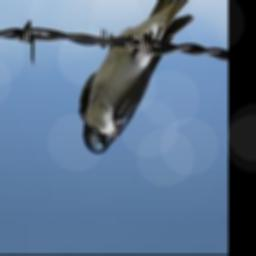Swallow: (78, 0, 195, 155)
